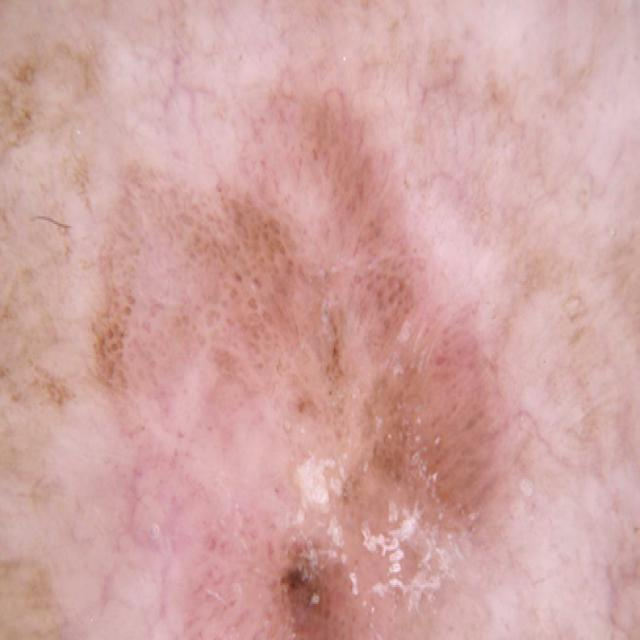Carcinoma: (68, 100, 608, 640)
